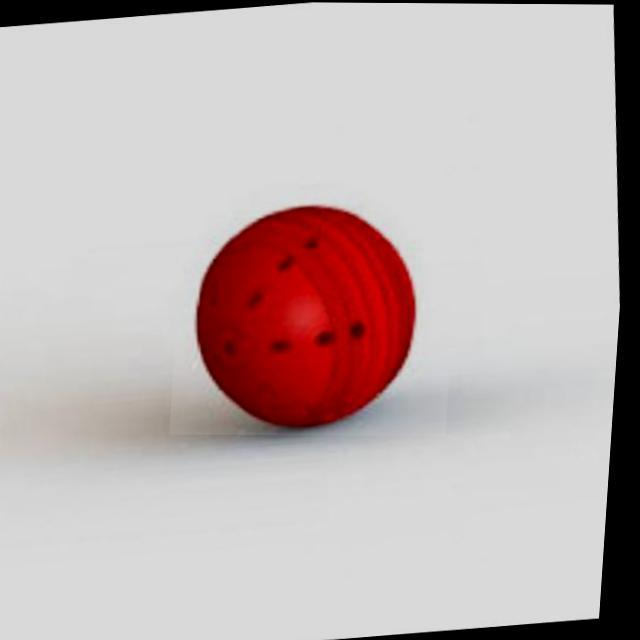-: (175, 195, 464, 436)
